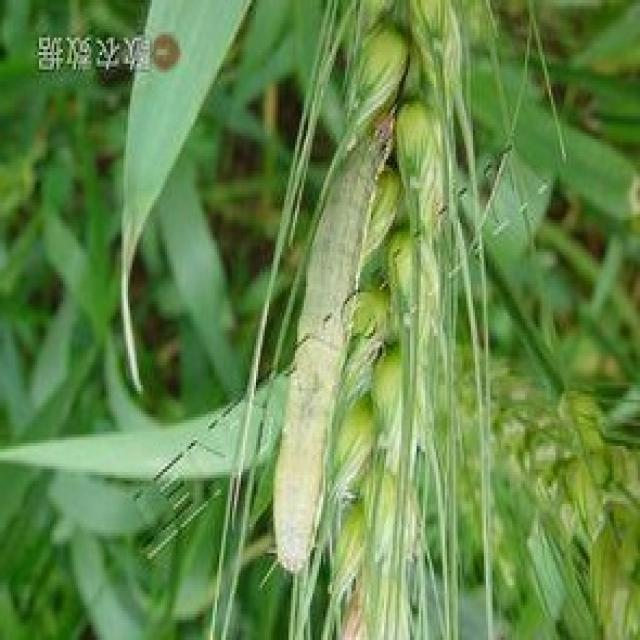army worm: (275, 92, 401, 582)
